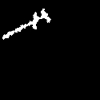double_crochet: (3, 9, 50, 38)
